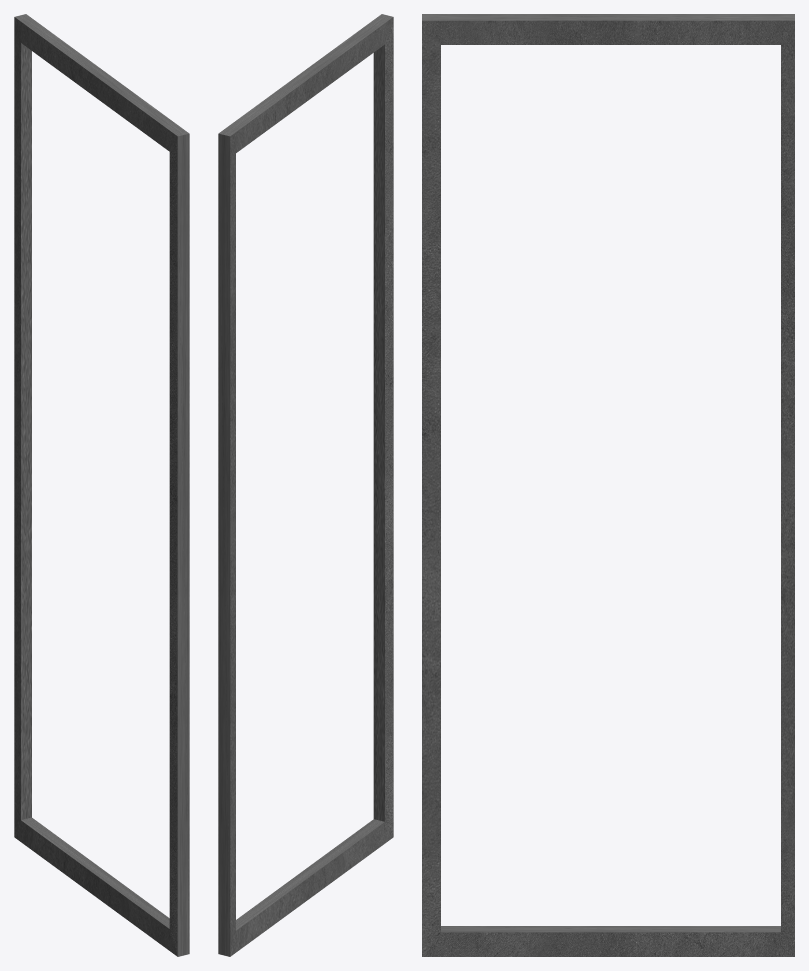
Rendered from marcobanioprincipal.obj.
3 views of the same model, side by side, from view 1: azimuth 30°, elevation 25°; view 2: azimuth 150°, elevation 25°; view 3: azimuth 270°, elevation 25° (orthographic). The views are drawn at different scales.
Visible parts, largest first — view 1: SET_3_CLOSET:uploads_files_5187725_untitled:uploads_files_422615; view 2: SET_3_CLOSET:uploads_files_5187725_untitled:uploads_files_422615; view 3: SET_3_CLOSET:uploads_files_5187725_untitled:uploads_files_422615.
Boxes of the visible parts, bbox=[...] form: SET_3_CLOSET:uploads_files_5187725_untitled:uploads_files_422615: bbox=[14, 14, 189, 956]; SET_3_CLOSET:uploads_files_5187725_untitled:uploads_files_422615: bbox=[218, 14, 393, 956]; SET_3_CLOSET:uploads_files_5187725_untitled:uploads_files_422615: bbox=[422, 14, 794, 956].
Size of the model in its own units: 0.0439 by 2.93 by 1.06.
Materials: 1 (1 with a texture image).
